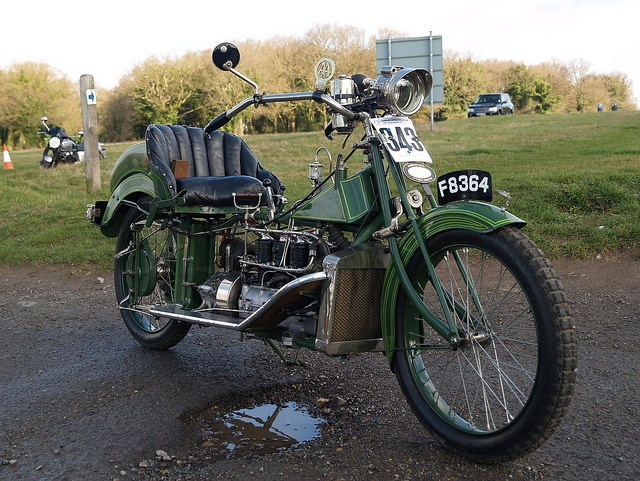non-vehicle: (83, 36, 581, 469), (37, 115, 108, 173)
